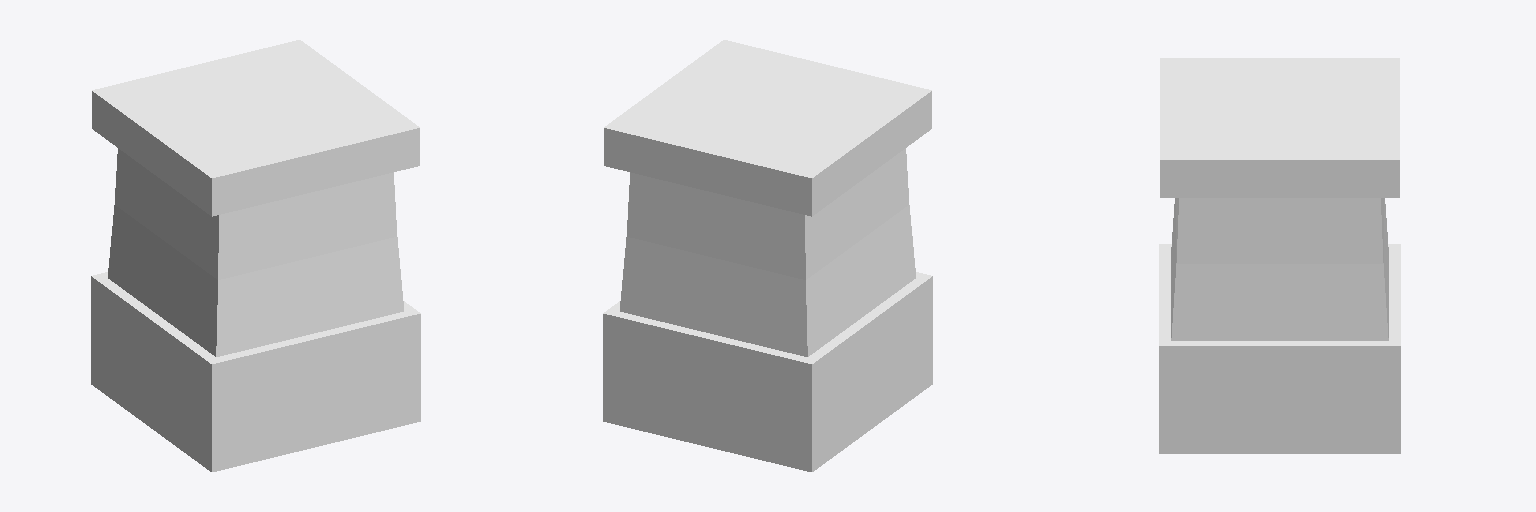
Rendered from Pedestal.obj.
3 renders of one model, left to right at view 1: azimuth 30°, elevation 25°; view 2: azimuth 150°, elevation 25°; view 3: azimuth 270°, elevation 25°, orthographic.
Parts seen in each view (by area): view 1: Box003, Box002, Box001; view 2: Box003, Box002, Box001; view 3: Box001, Box003, Box002.
Boxes of the visible parts, x1,y1,x2,y2 form: Box003: [108, 148, 403, 356]; Box002: [91, 272, 420, 471]; Box001: [92, 40, 419, 216]; Box003: [620, 148, 915, 356]; Box002: [603, 272, 932, 471]; Box001: [604, 40, 931, 216]; Box001: [1160, 58, 1399, 197]; Box003: [1171, 198, 1388, 340]; Box002: [1159, 244, 1400, 453].
Size of the model in its own units: 0.6 by 0.8052 by 0.6.